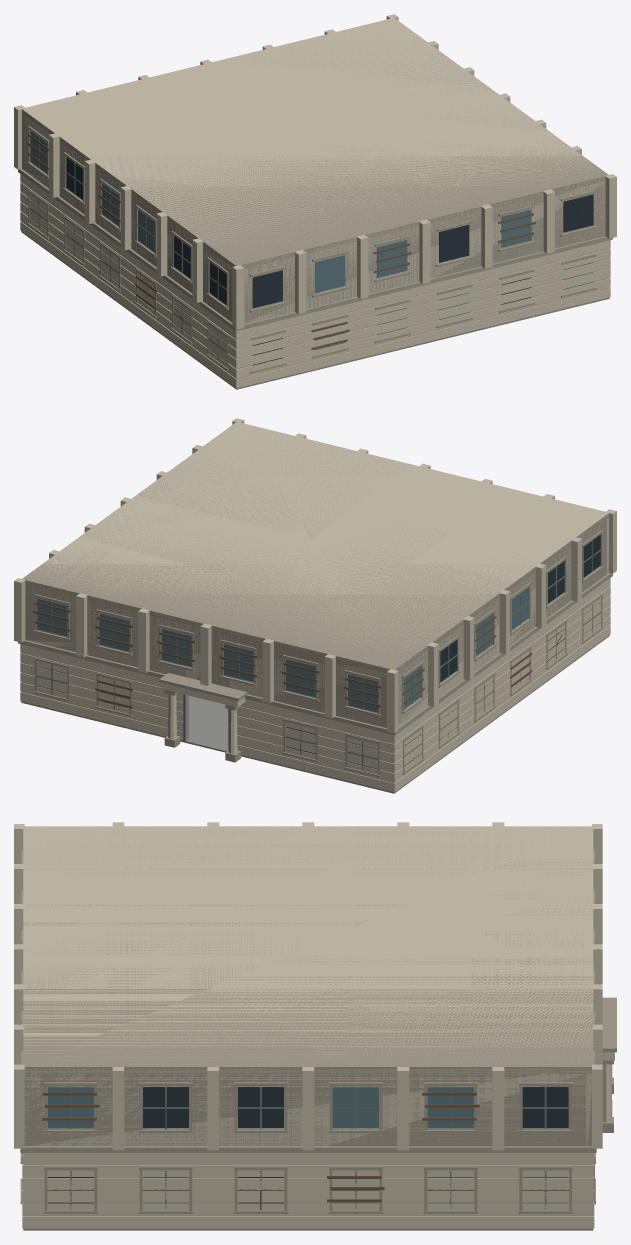
Rendered from tw_stone_24_base.glb.
3 views of the same model, one above another, from view 1: azimuth 30°, elevation 25°; view 2: azimuth 150°, elevation 25°; view 3: azimuth 270°, elevation 25° (orthographic). The views are drawn at different scales.
Visible parts, largest first — view 1: tw_stone_24_base; view 2: tw_stone_24_base; view 3: tw_stone_24_base.
Boxes of the visible parts, x1,y1,x2,y2 form: tw_stone_24_base: [14, 14, 616, 389]; tw_stone_24_base: [14, 418, 616, 793]; tw_stone_24_base: [14, 822, 616, 1230].
Size of what is drawn, in the model's own units: 24.97 by 7.6 by 25.4.
Materials: 3 (3 with a texture image).
